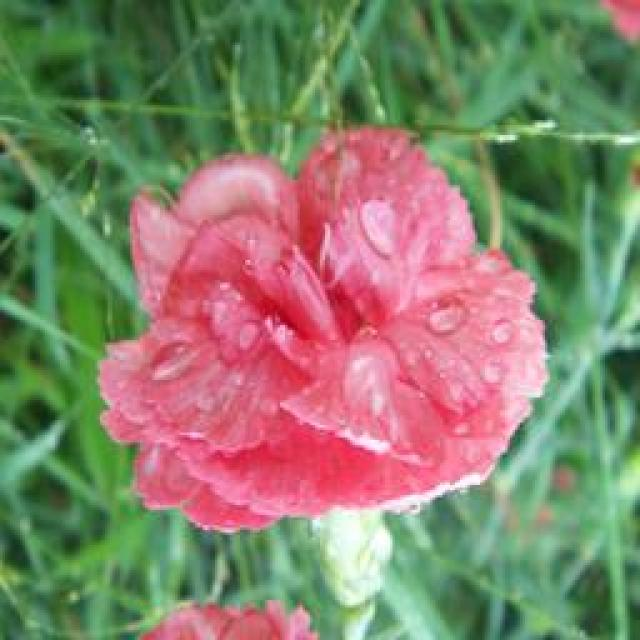carnation: (109, 112, 550, 514)
